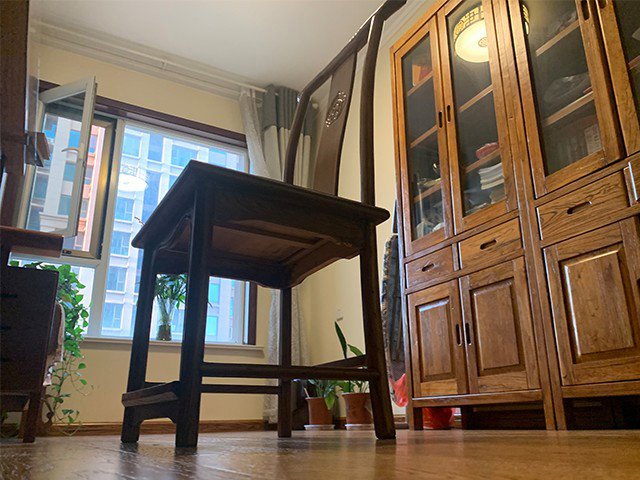cabinet: (389, 148, 640, 431)
curtain: (239, 82, 315, 426)
sofa: (1, 222, 65, 443)
stool: (120, 1, 410, 449)
